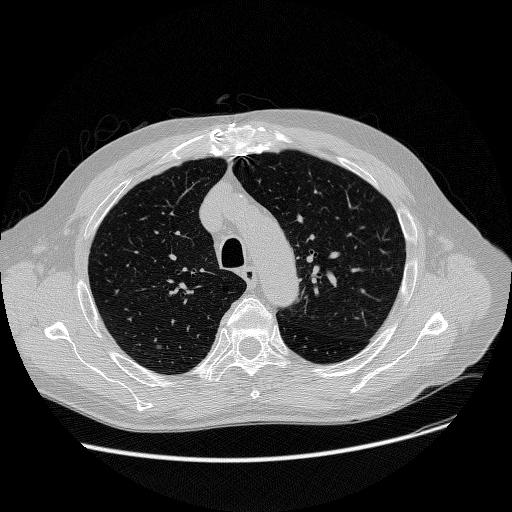nodule: (154, 341, 165, 352)
